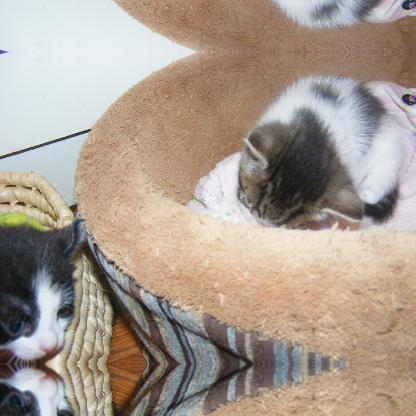Cat: (236, 73, 406, 222), (0, 214, 98, 362), (235, 0, 407, 32), (0, 365, 99, 415)
